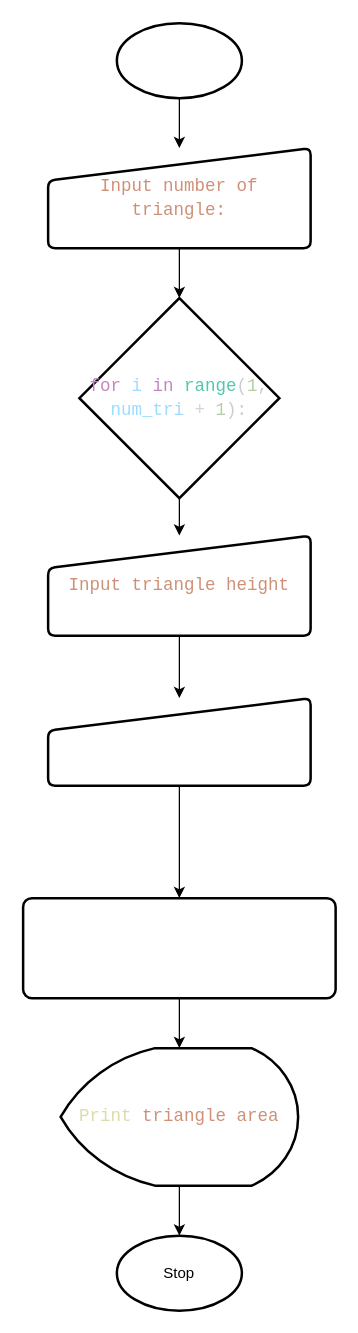
The diagram is 358 pixels wide and 1333 high, and some of its shapes have lost their labels. The shapes that lost their labels are listed below. From the top down, each one's centre as x and y in pixels, then its label:
At point 178,60: "Start".
At point 178,741: "Input triangle base".
At point 178,947: "tri_area = 1 / 2 * height * base".
